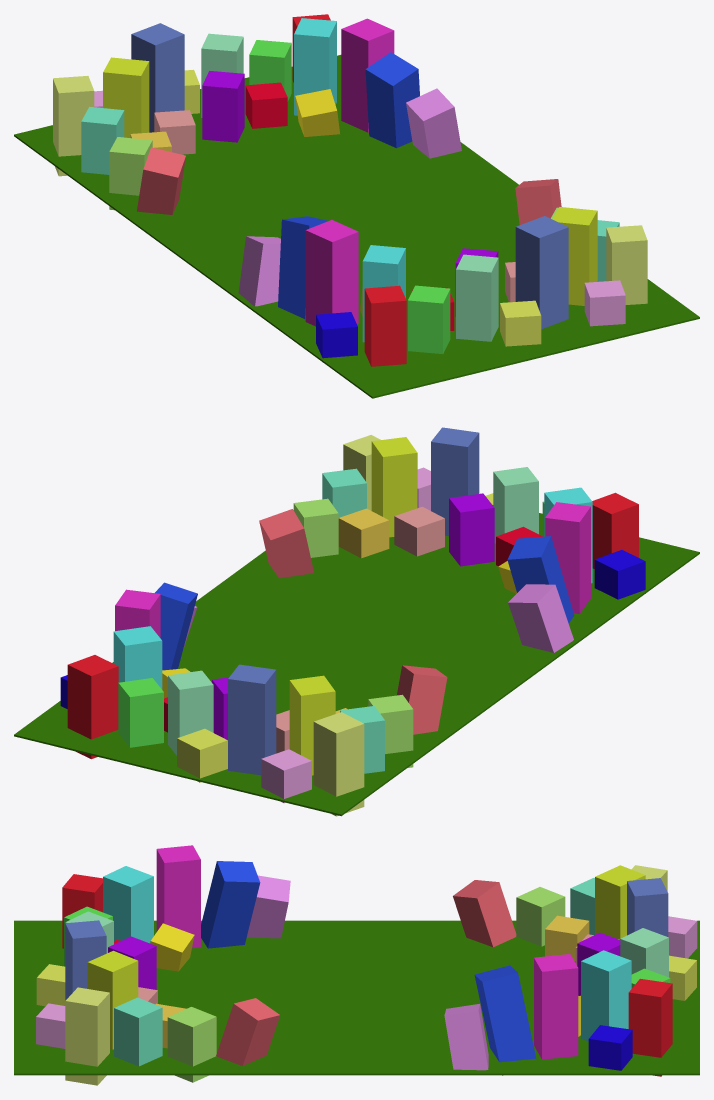
File: Crystals.fbx
3 views of the same model, one above another, from view 1: azimuth 30°, elevation 25°; view 2: azimuth 150°, elevation 25°; view 3: azimuth 270°, elevation 25° (orthographic). The views are drawn at different scales.
Visible parts, largest first — view 1: Cube, Куб.023, Куб.031, Куб.041, Куб.014, Куб.006, Куб.027, Куб.032, Куб.012, Куб.004, Куб.017, Куб.024 (+21 smaller); view 2: Cube, Куб.006, Куб.007, Куб.015, Куб.023, Куб.021, Куб.031, Куб.039, Куб.034, Куб.011, Куб.010, Куб.027 (+21 smaller); view 3: Cube, Куб.014, Куб.041, Куб.037, Куб.031, Куб.012, Куб.024, Куб.029, Куб.015, Куб.040, Куб.036, Куб.020 (+23 smaller).
Boxes of the visible parts, x1,y1,x2,y2 form: Cube: (14,55,699,398); Куб.023: (515,216,568,329); Куб.031: (305,220,358,326); Куб.041: (365,52,419,148); Куб.014: (341,18,394,132); Куб.006: (131,23,184,132); Куб.027: (456,254,498,341); Куб.032: (364,285,406,366); Куб.012: (294,18,336,115); Куб.004: (103,57,149,137); Куб.017: (202,71,244,142); Куб.024: (606,225,647,304); Cube: (14,513,699,816); Куб.006: (228,664,276,775); Куб.007: (313,712,364,816); Куб.015: (67,655,118,759); Куб.023: (431,427,479,536); Куб.021: (371,437,417,537); Куб.031: (545,502,590,613); Куб.039: (508,584,573,652); Куб.034: (449,493,494,566); Куб.011: (118,678,163,747); Куб.010: (168,670,213,755); Куб.027: (493,467,538,543); Cube: (14,920,699,1075); Куб.014: (534,954,578,1059); Куб.041: (474,965,536,1075); Куб.037: (201,861,260,948); Куб.031: (156,845,200,948); Куб.012: (581,950,631,1041); Куб.024: (65,987,109,1085); Куб.029: (103,866,153,943); Куб.015: (628,978,672,1076); Куб.040: (453,880,516,947); Куб.036: (216,998,280,1065); Куб.020: (114,997,162,1066).
Bounding box in the file's own units: 20000 × 6515 × 37930.
